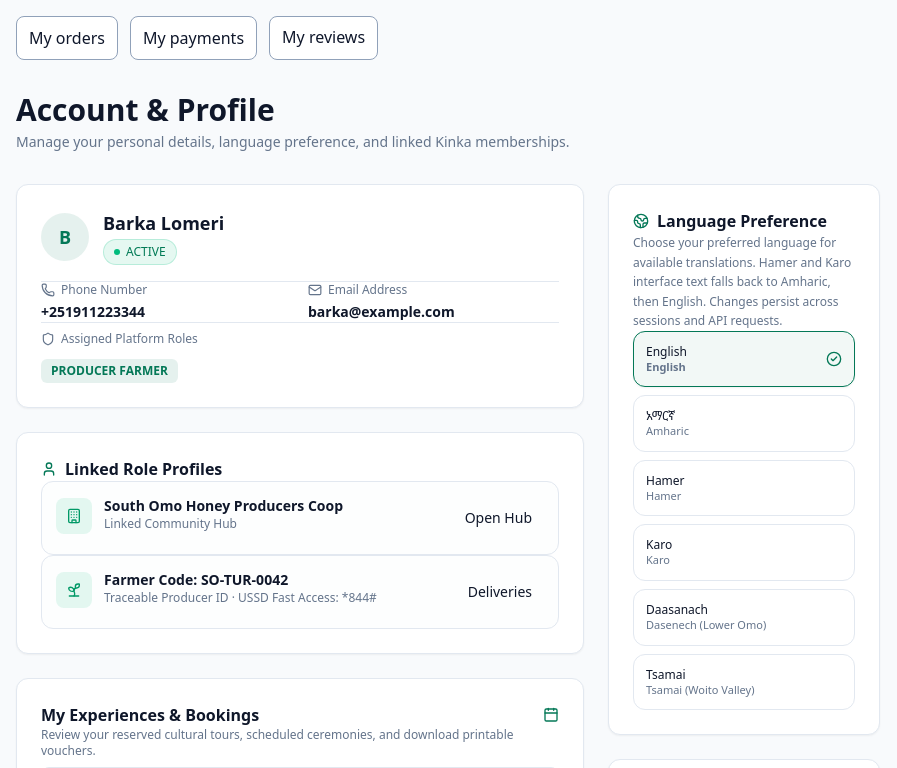
Account & Profile (F-208) › changes and persists language preference in localStorage and auth store
Step 1. Click the radio button labelled "አማርኛ Amharic" → click(744, 424), box x1=633 y1=395 x2=855 y2=452
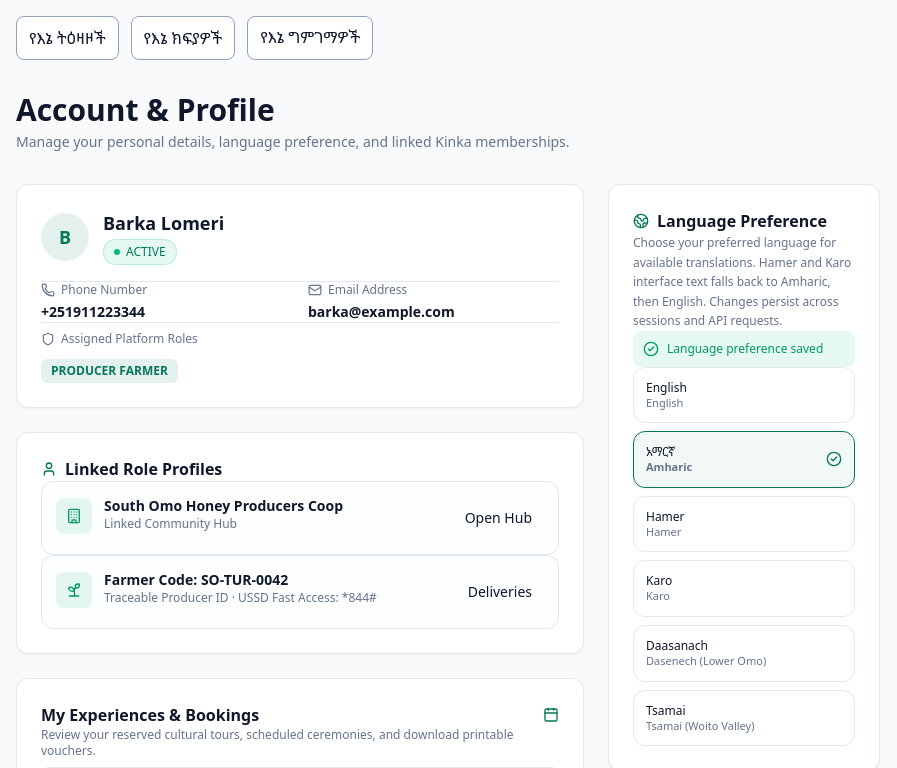
Result: the text "Language preference saved" is shown at x1=667 y1=340 x2=823 y2=356
